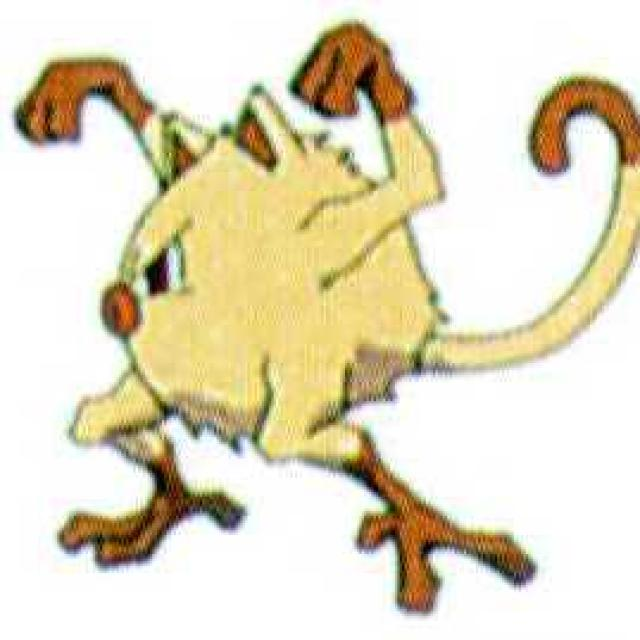Mankey: (18, 25, 456, 603)
